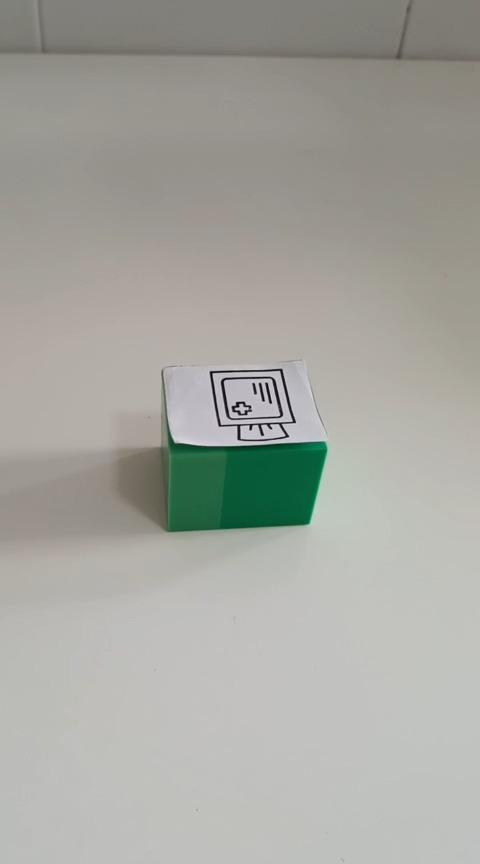Gauze: (159, 358, 328, 532)
